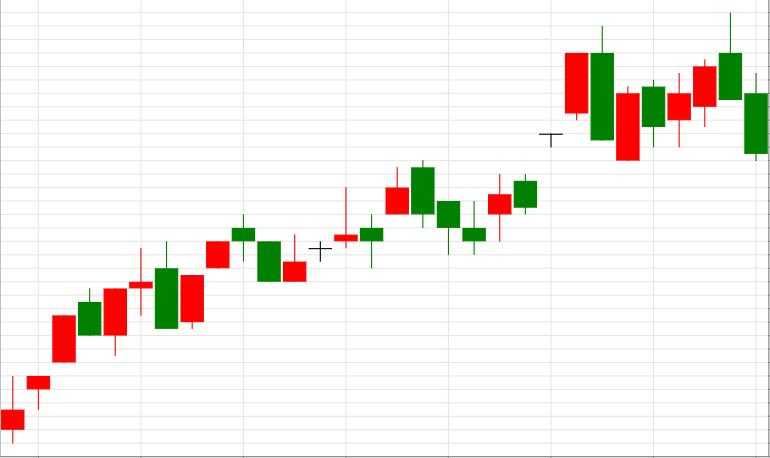bearish_engulfing_fall: (463, 27, 614, 256)
evening_star_fall: (104, 214, 281, 355)
